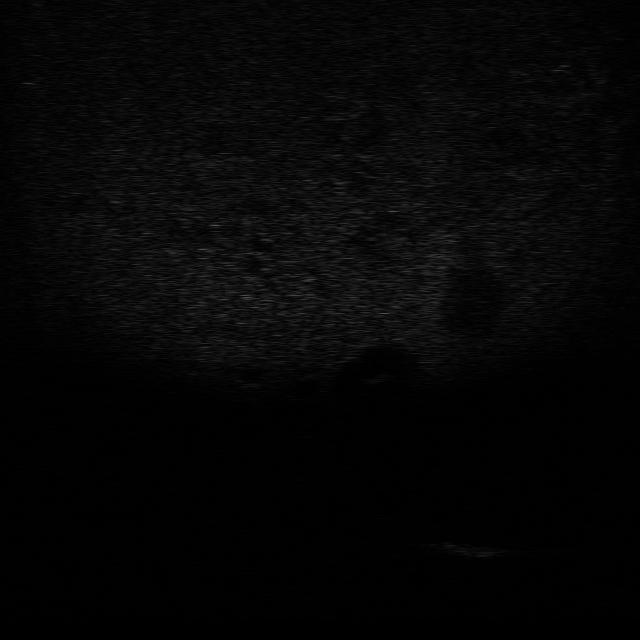ball: (282, 421, 322, 443)
metal bucket: (430, 537, 512, 563)
tyre: (345, 513, 409, 546)
